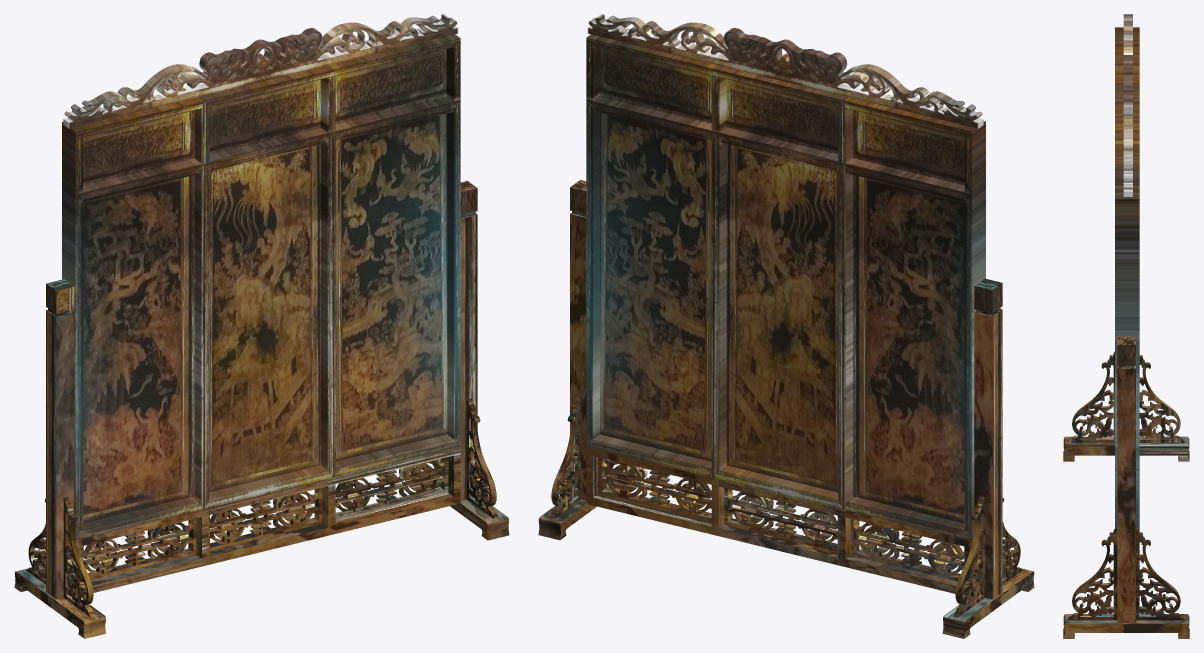
File: screens.glb
The picture shows the model from 3 angles, left to right: view 1: azimuth 30°, elevation 25°; view 2: azimuth 150°, elevation 25°; view 3: azimuth 270°, elevation 25°; orthographic projection. The views are drawn at different scales.
Visible parts, largest first — view 1: Plane08, Shape15; view 2: Plane08, Shape15; view 3: Shape15, Plane08.
Part boxes in pixels (box(x1,y1,x2,y2)): Plane08: box(62, 34, 460, 540); Shape15: box(14, 14, 509, 638); Plane08: box(586, 34, 985, 542); Shape15: box(538, 14, 1034, 638); Shape15: box(1063, 14, 1189, 638); Plane08: box(1115, 27, 1139, 564).
Size of the model in its own units: 0.7156 by 0.8356 by 0.2048.
Materials: 2 (2 with a texture image).
